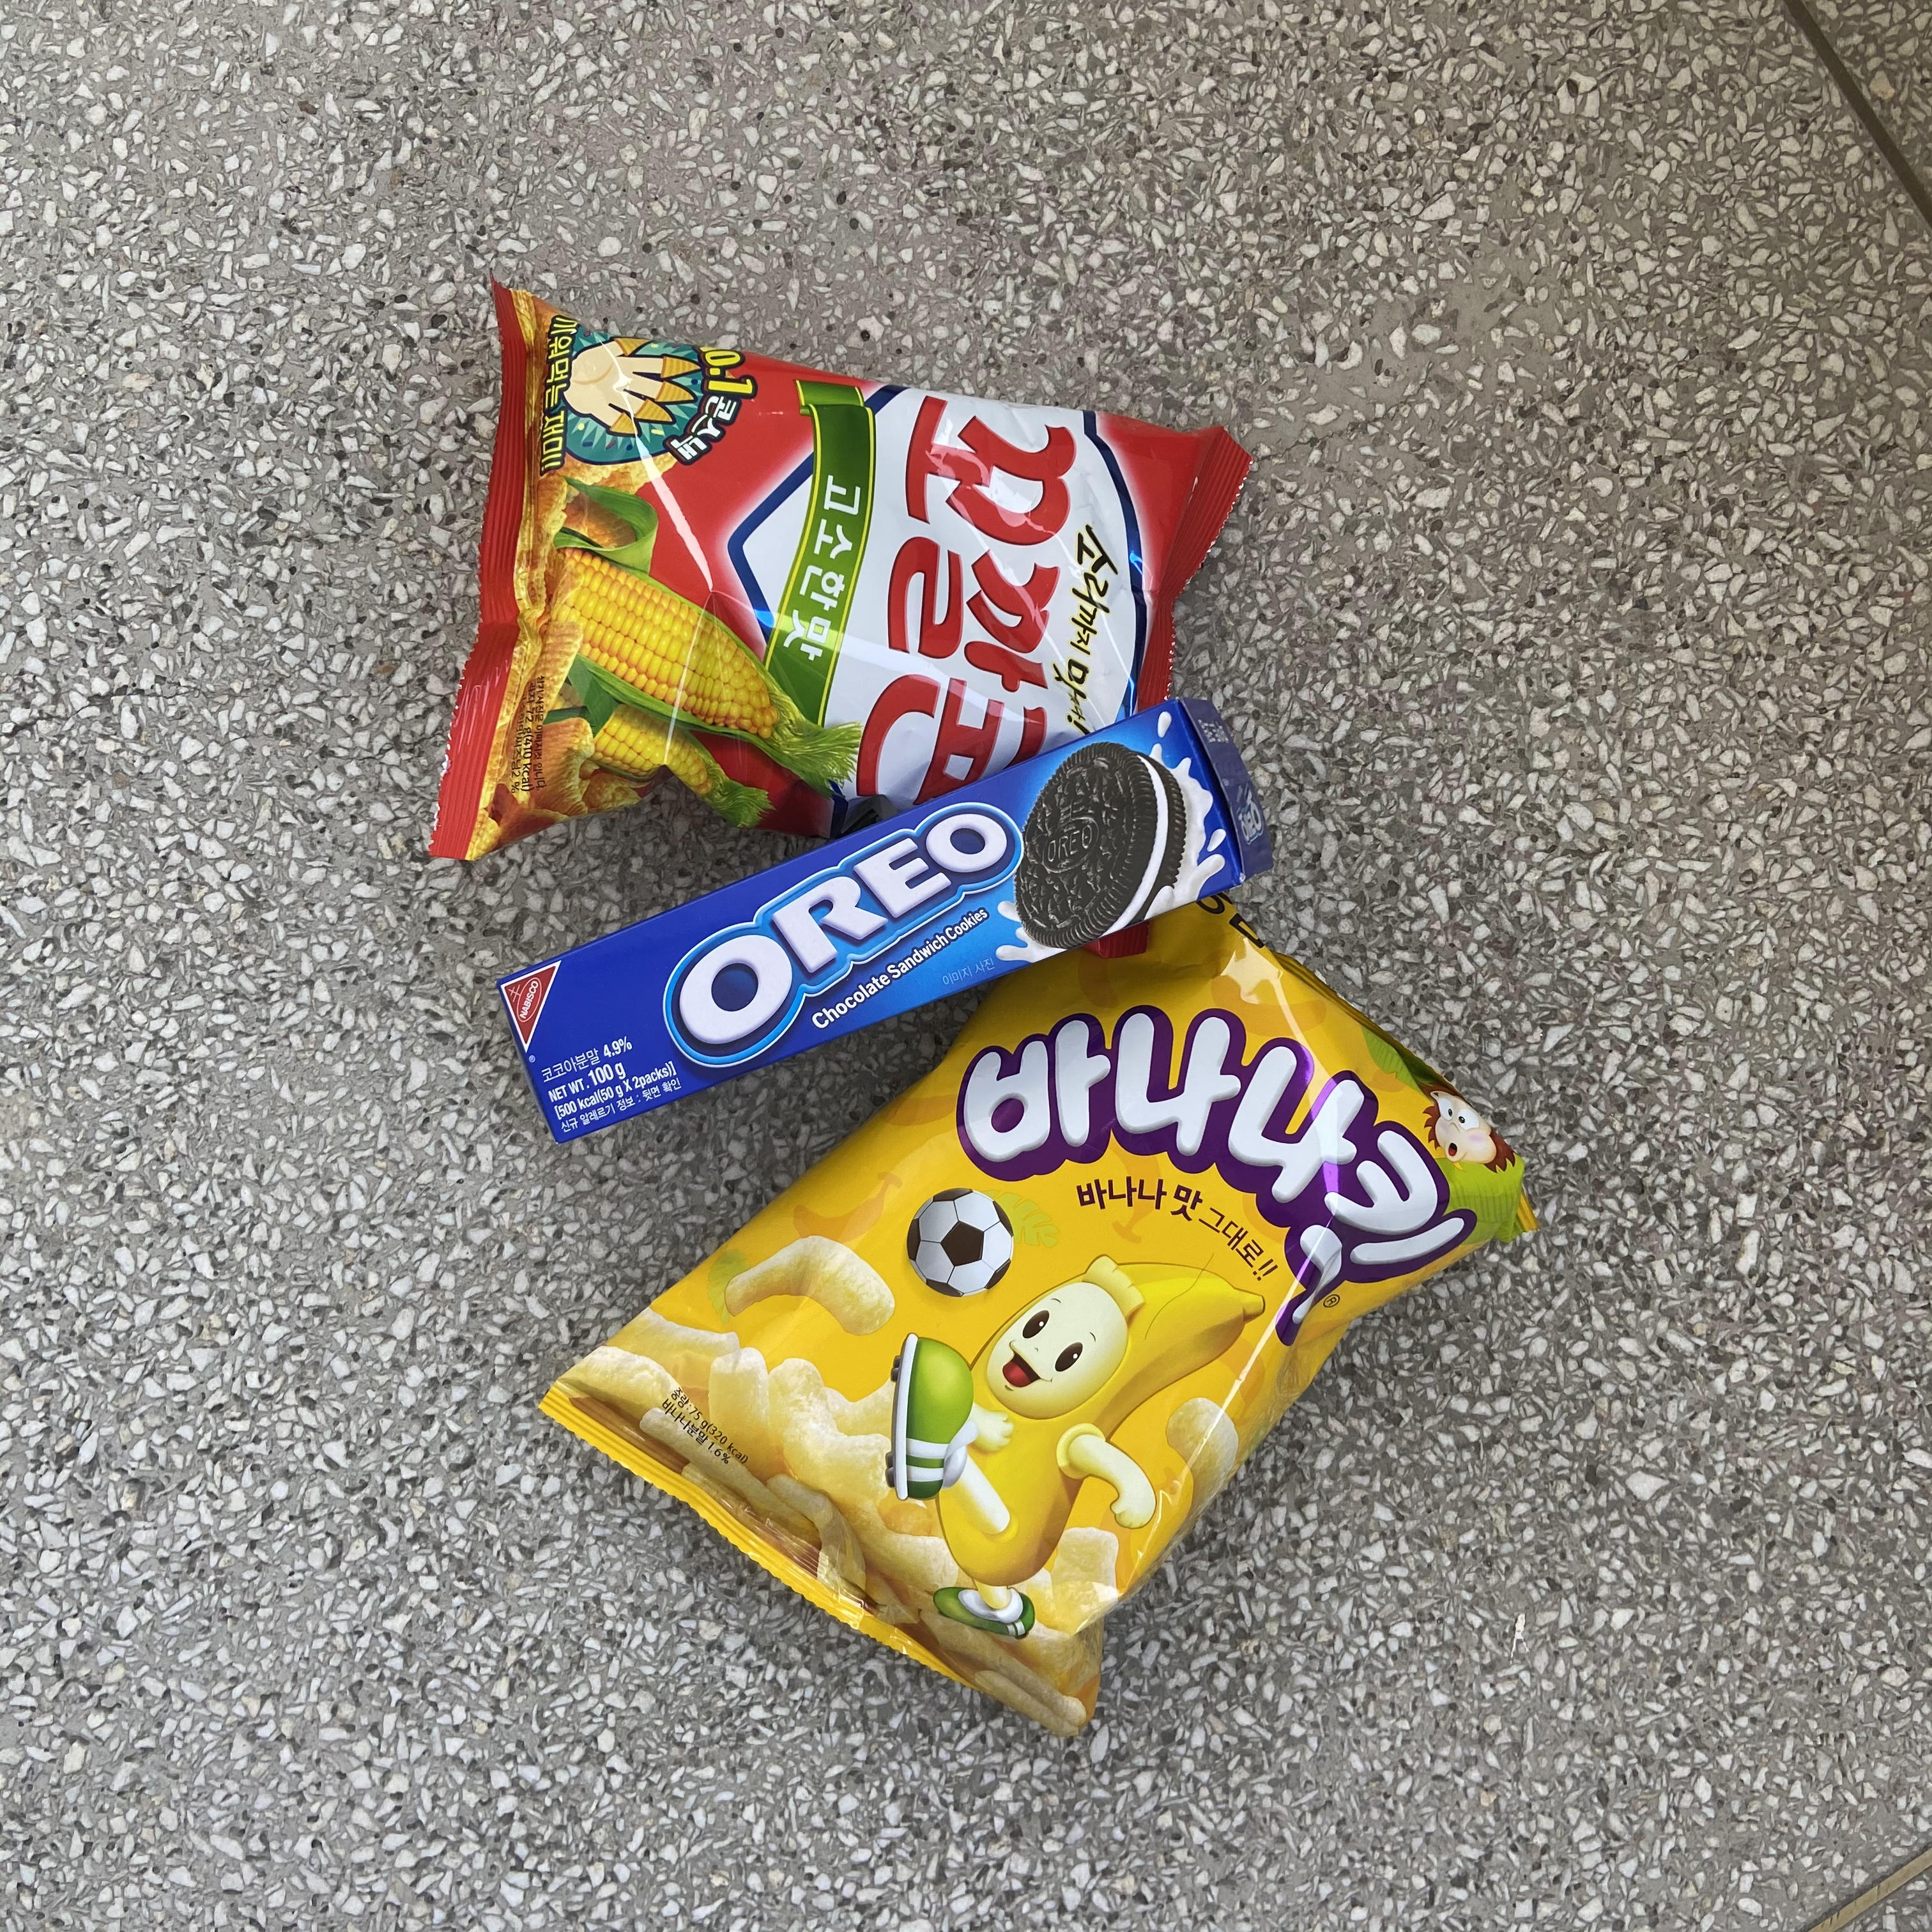banana: (538, 897, 1546, 1750)
ggoggalcon: (423, 269, 1254, 888)
oreo: (495, 688, 1277, 1154)
